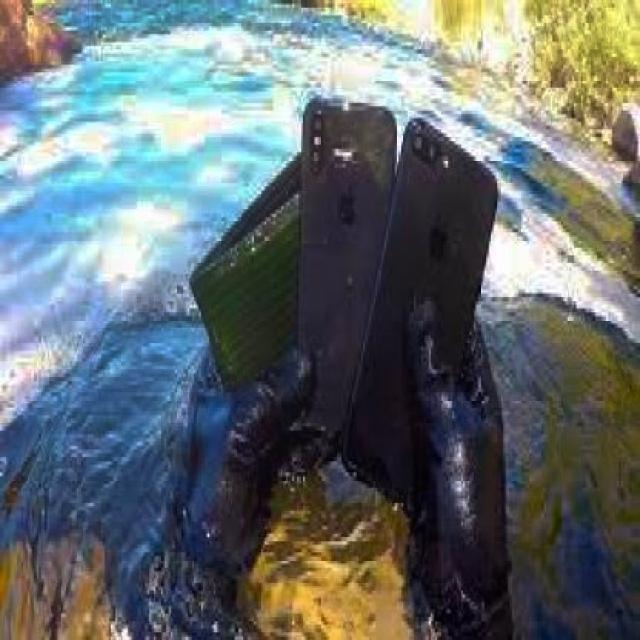cellphone: (352, 118, 498, 496), (301, 95, 399, 457)
